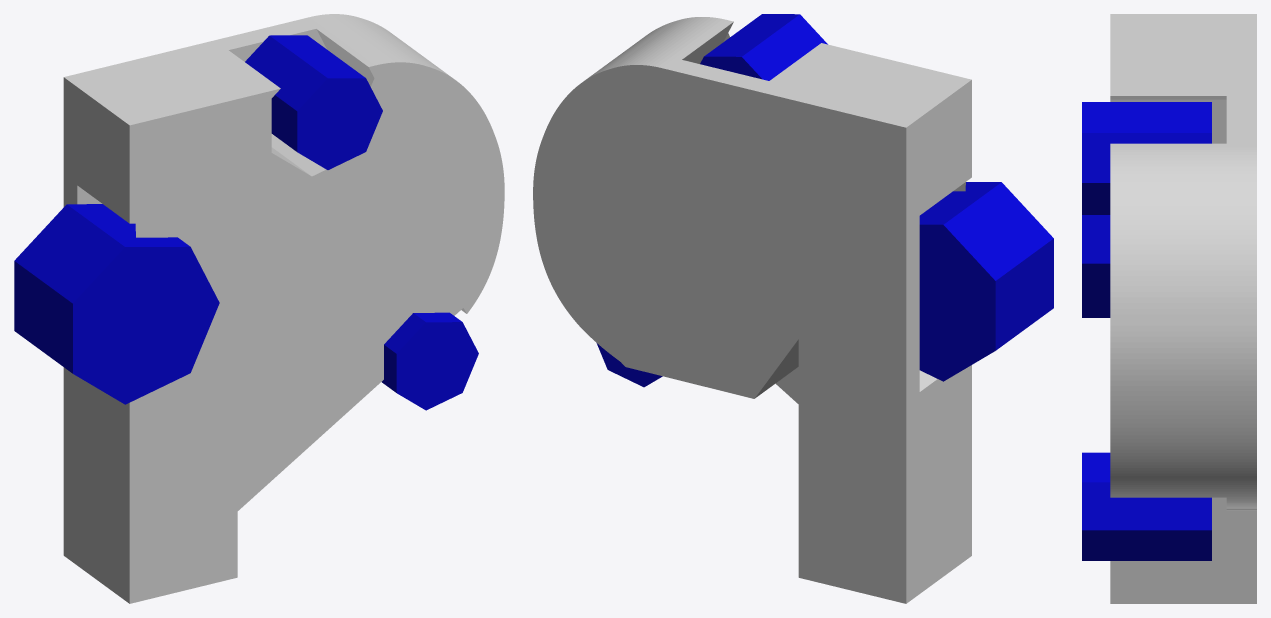
The model's file is Ch_Lite_P_01.fbx.
3 renders of one model, left to right at view 1: azimuth 30°, elevation 25°; view 2: azimuth 150°, elevation 25°; view 3: azimuth 270°, elevation 25°, orthographic. The views are drawn at different scales.
Parts seen in each view (by area): view 1: sphere1; view 2: sphere1; view 3: sphere1.
Boxes of the visible parts, <box> form: sphere1: <box>14,14,504,603</box>; sphere1: <box>533,14,1053,603</box>; sphere1: <box>1082,14,1256,603</box>.
Size of the model in its own units: 0.7778 by 0.8187 by 0.2387.
